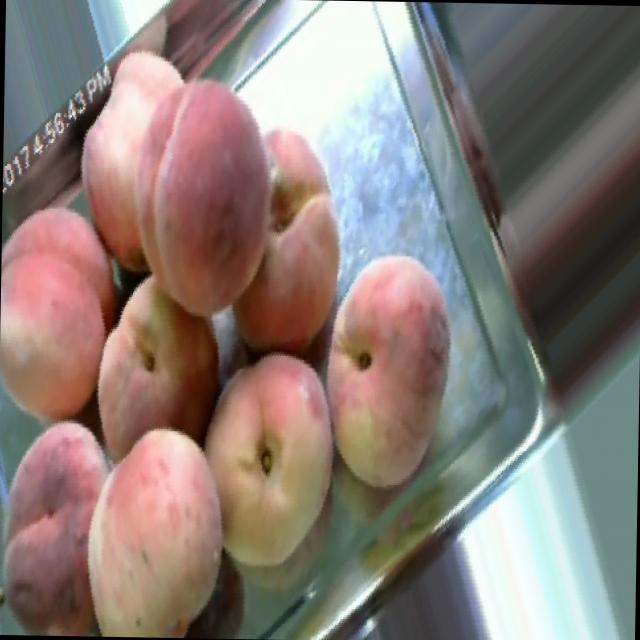Fruit: (59, 47, 377, 372), (46, 398, 255, 638), (322, 233, 488, 512), (198, 328, 364, 597), (0, 179, 153, 446)
